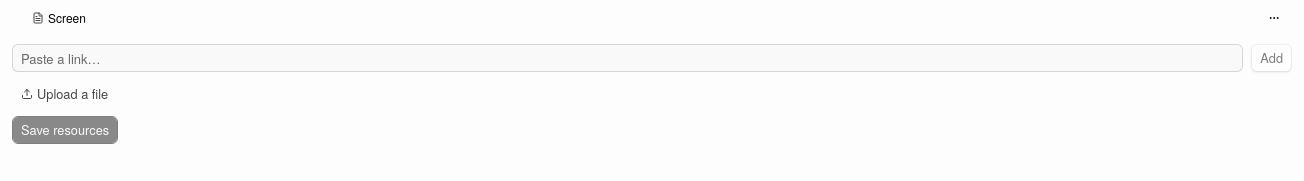
Test: the list is the same list whichever owner draws it › shows the picture that already is the frame as the featured image, and offers nothing to do
This screenshot has width=1304, height=181.
Click the button named "More for Screen": (1274, 18) [1260,4,1288,32]
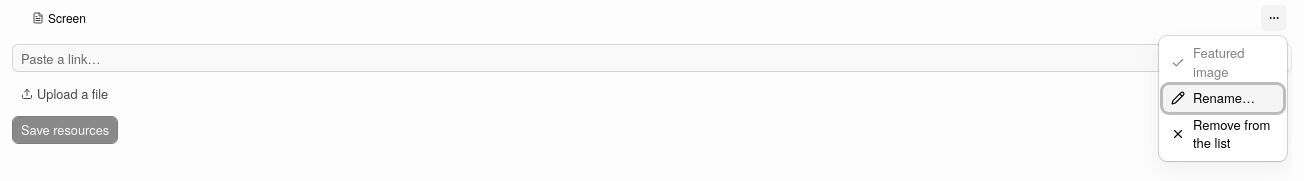
expect the text "Featured image" is shown: met, box [1171,43,1245,81]
